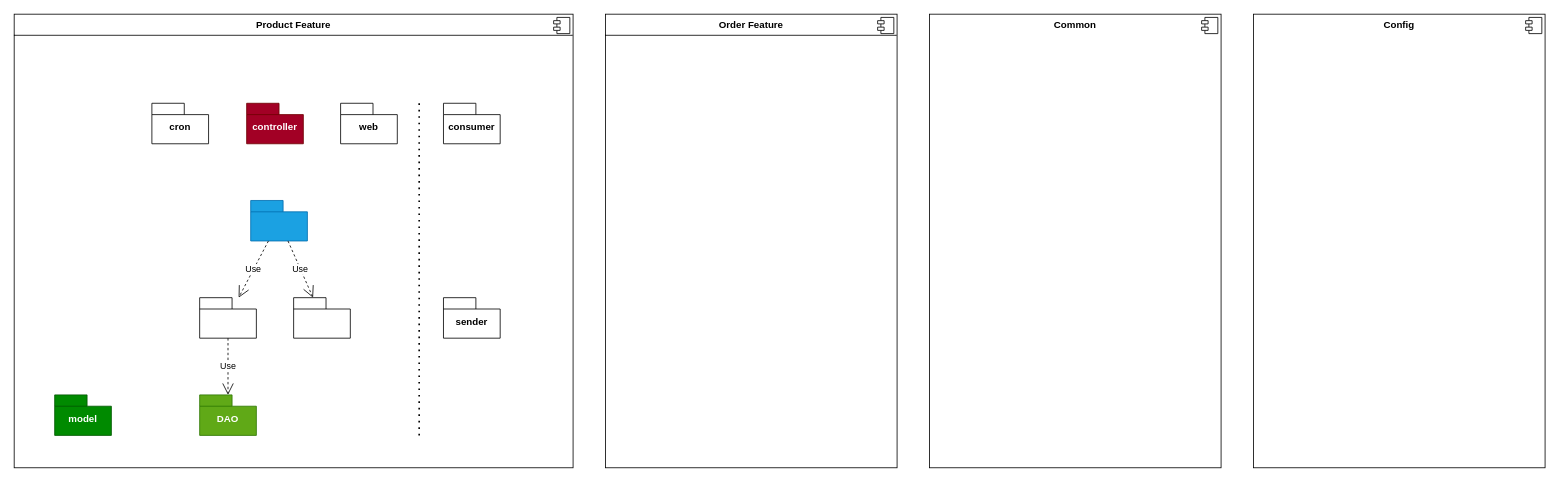
Some shapes in this 1559 by 482 pixel diagram are drawn without their labels. Each missing label, with the centre of its shape:
"client" goes at point (321, 317).
"manager" goes at point (227, 317).
"service" goes at point (278, 220).
